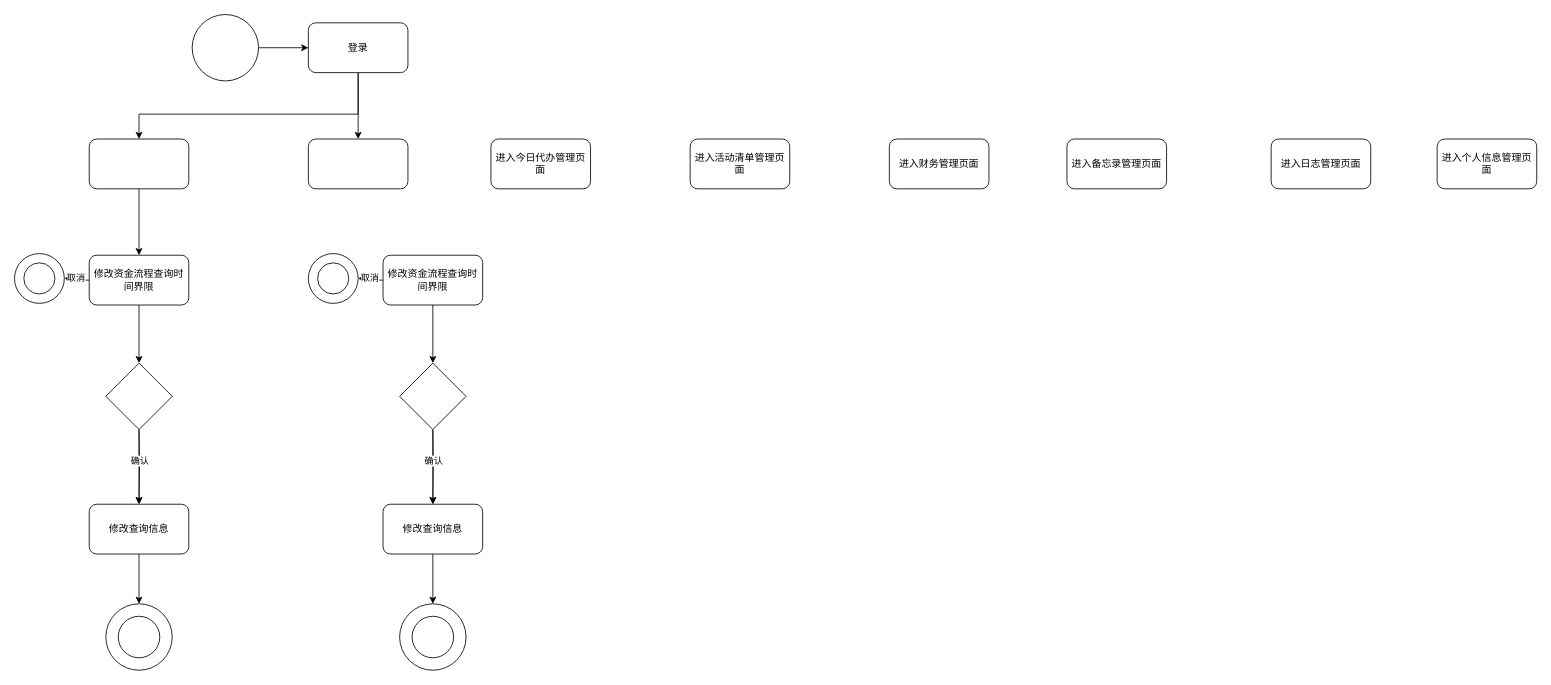
The diagram is 1551 pixels wide and 685 high, and some of its shapes have lost their labels. The shapes that lost their labels are listed below. From the top down, each one's box as (x1, y1, x2, y2) in pixels, then its label:
(88, 138, 189, 189): 进入信息快捷查看主页
(308, 138, 408, 189): 进入提醒事项管理页面
